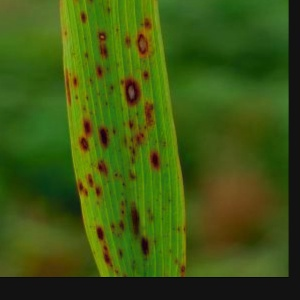Bacterial_Leaf_Blight: (127, 198, 143, 239), (62, 62, 75, 112), (123, 78, 144, 108), (146, 146, 166, 176), (135, 30, 151, 60), (93, 156, 112, 180), (142, 100, 157, 130), (138, 233, 153, 262), (98, 124, 111, 152), (81, 115, 96, 139), (100, 250, 115, 269), (77, 7, 90, 28), (78, 134, 91, 155), (94, 223, 107, 244), (74, 176, 87, 194), (94, 62, 104, 81), (93, 184, 105, 199), (86, 172, 96, 190), (115, 246, 126, 261), (97, 29, 108, 43), (71, 74, 80, 91), (117, 219, 127, 234), (177, 262, 189, 274), (128, 153, 137, 169), (128, 168, 138, 182), (124, 34, 133, 49), (82, 186, 91, 201), (105, 2, 114, 16), (126, 263, 140, 272), (99, 242, 111, 252), (122, 133, 129, 150), (144, 17, 153, 30), (135, 134, 143, 148), (142, 69, 151, 81), (146, 214, 158, 223), (130, 144, 139, 156), (82, 50, 92, 60), (127, 120, 136, 130), (119, 198, 128, 208), (118, 208, 128, 217), (174, 174, 184, 183), (181, 225, 189, 236), (112, 266, 120, 277), (83, 94, 92, 103), (80, 104, 89, 113), (166, 246, 175, 255), (108, 222, 118, 230), (152, 137, 160, 147), (142, 122, 150, 132), (69, 48, 77, 58), (114, 25, 121, 36), (111, 126, 118, 137), (119, 76, 126, 87), (62, 30, 70, 39), (113, 170, 121, 179), (120, 180, 128, 189), (118, 191, 127, 199), (109, 229, 118, 237), (114, 60, 122, 69), (163, 161, 171, 170), (145, 207, 153, 216), (176, 271, 188, 277), (130, 133, 136, 145), (94, 88, 102, 97), (109, 82, 116, 92), (157, 246, 164, 256), (173, 256, 180, 266), (107, 188, 114, 198), (87, 221, 94, 231), (158, 216, 166, 224), (82, 35, 89, 44), (87, 76, 94, 85), (175, 225, 182, 234), (105, 64, 111, 74), (118, 272, 130, 277), (73, 94, 80, 102), (94, 199, 101, 207), (134, 110, 141, 118), (161, 140, 168, 148), (90, 249, 97, 257), (140, 130, 146, 139), (121, 119, 127, 128), (151, 239, 158, 246), (128, 244, 135, 251), (131, 258, 138, 265), (92, 100, 99, 107), (104, 100, 110, 108), (166, 197, 172, 204), (154, 198, 160, 204)
